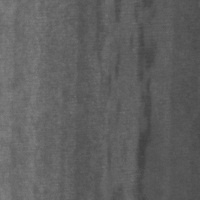inclusion: (101, 1, 140, 194), (125, 21, 159, 199)
